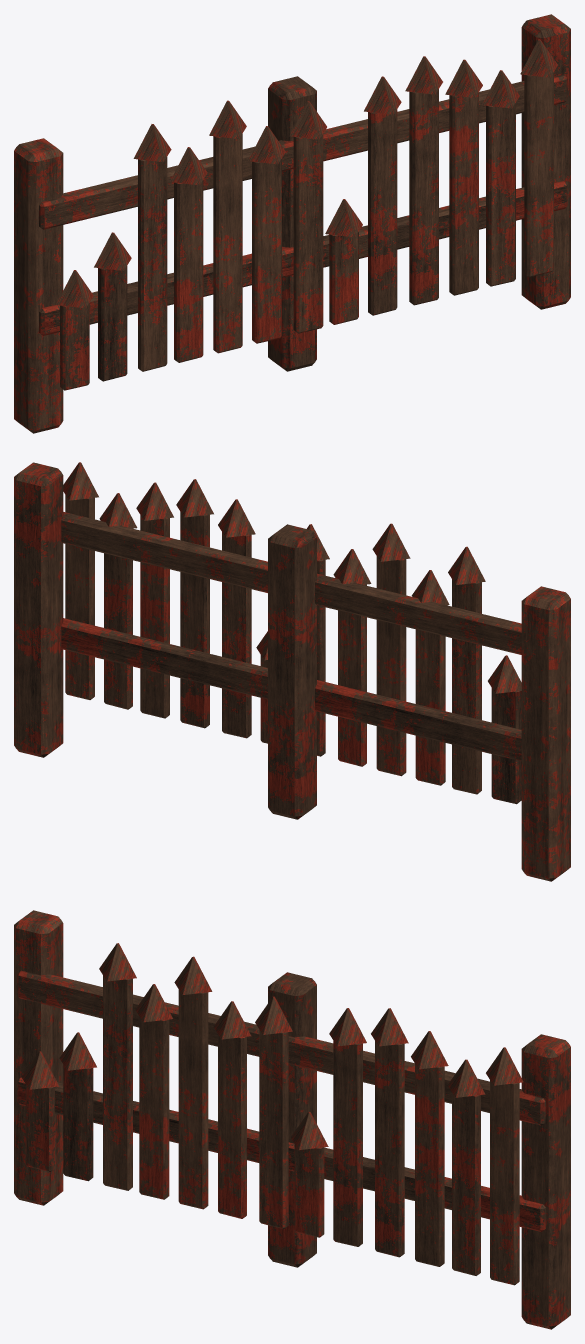
File: Bell_Fence_Picket.glb
3 views of the same model, one above another, from view 1: azimuth 30°, elevation 25°; view 2: azimuth 150°, elevation 25°; view 3: azimuth 330°, elevation 25° (orthographic).
Visible parts, largest first — view 1: Bell_Fence_Picket__Timber; view 2: Bell_Fence_Picket__Timber; view 3: Bell_Fence_Picket__Timber.
Boxes of the visible parts, bbox=[...] form: Bell_Fence_Picket__Timber: bbox=[14, 14, 570, 433]; Bell_Fence_Picket__Timber: bbox=[14, 462, 570, 881]; Bell_Fence_Picket__Timber: bbox=[14, 910, 570, 1329].
Bounding box in the file's own units: 8.55 × 4.44 × 1.05.
Materials: 1 (1 with a texture image).
